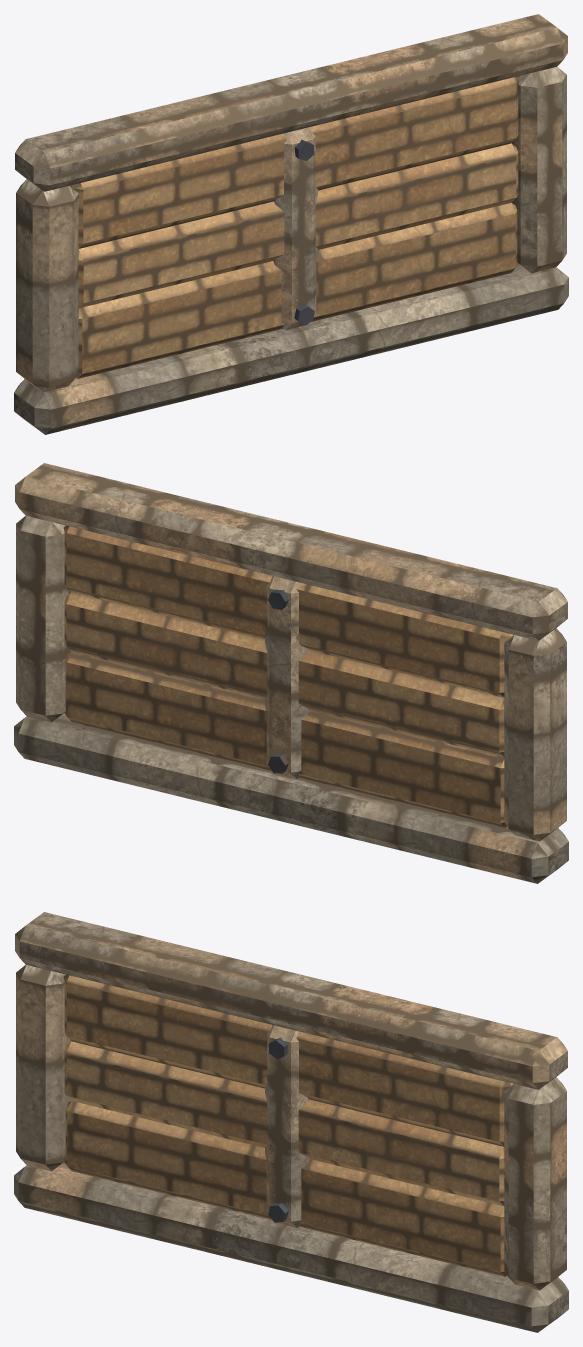
Rendered from yarim_duvar.glb.
3 views of the same model, one above another, from view 1: azimuth 30°, elevation 25°; view 2: azimuth 150°, elevation 25°; view 3: azimuth 330°, elevation 25° (orthographic).
Parts seen in each view (by area): view 1: yarim_duvar; view 2: yarim_duvar; view 3: yarim_duvar.
Part boxes in pixels (left/top/right/bottom): yarim_duvar: left=14, top=14, right=568, bottom=434; yarim_duvar: left=14, top=463, right=568, bottom=883; yarim_duvar: left=14, top=912, right=568, bottom=1332.
Size of the model in its own units: 3 by 1.51 by 0.32.
1 material, 1 textured.
